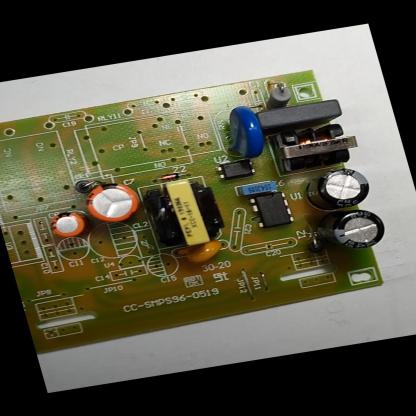Cap1: (82, 178, 145, 225)
Cap2: (48, 209, 91, 239)
Cap3: (298, 164, 376, 213)
Cap4: (312, 206, 389, 254)
MOSFET: (247, 188, 296, 230)
Mov: (218, 104, 270, 160)
Resistor: (260, 82, 295, 112)
Transformer: (136, 175, 230, 253), (273, 118, 361, 173)
